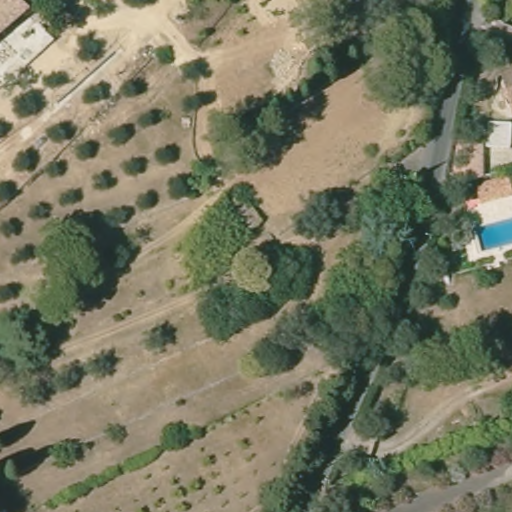pool: (470, 213, 512, 255)
